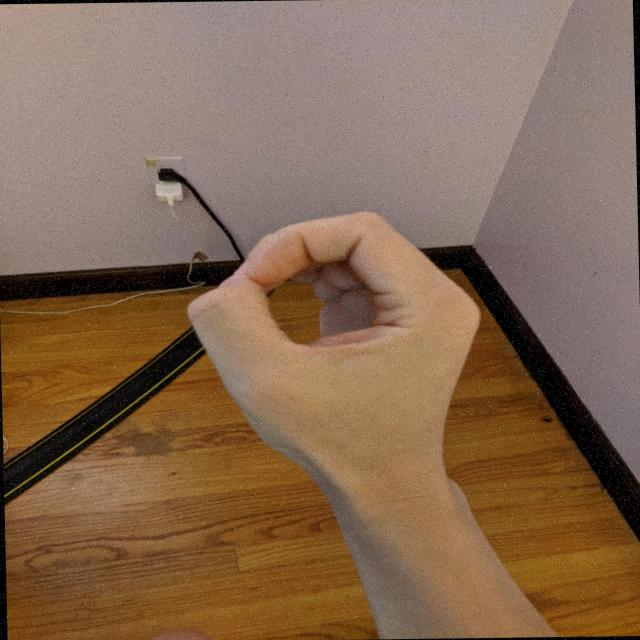O: (178, 206, 491, 490)
